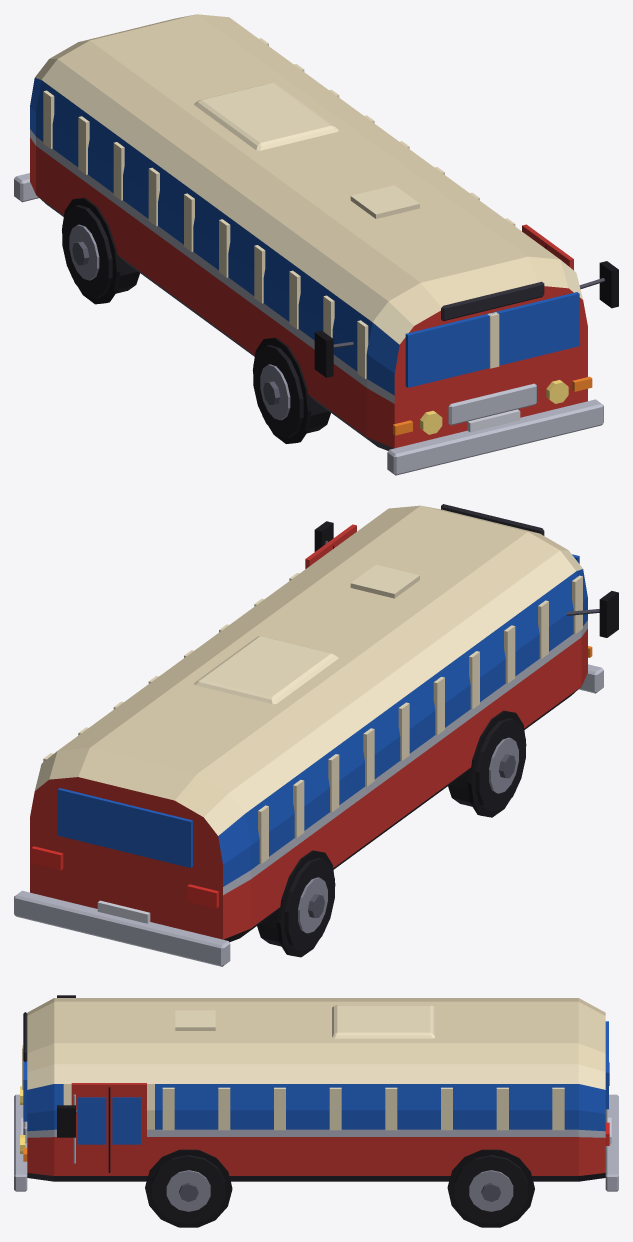
Rendered from bus-old.glb.
3 renders of one model, top to bottom at view 1: azimuth 30°, elevation 25°; view 2: azimuth 150°, elevation 25°; view 3: azimuth 270°, elevation 25°, orthographic. The views are drawn at different scales.
Parts seen in each view (by area): view 1: BusOld; view 2: BusOld; view 3: BusOld.
Part boxes in pixels (box(x1,y1,x2,y2)): BusOld: box(14, 14, 618, 475); BusOld: box(14, 504, 618, 966); BusOld: box(14, 995, 618, 1227).
Bounding box in the file's own units: 1.99 × 1.37 × 4.5.
Materials: 1 (1 with a texture image).
